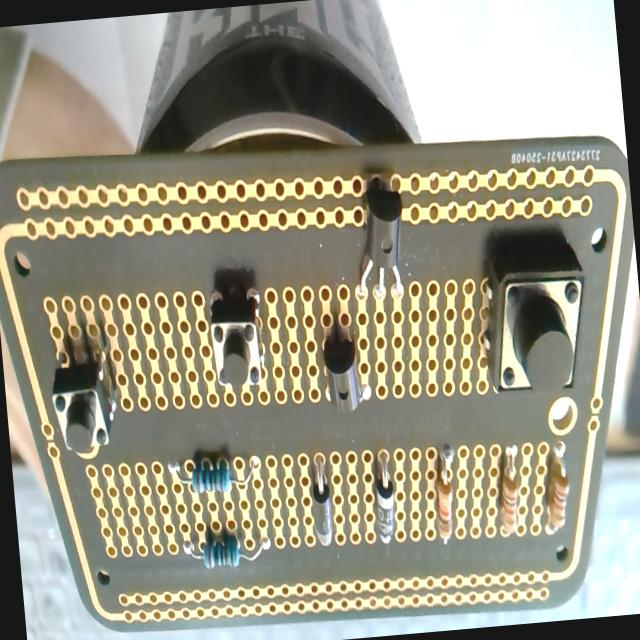diode: (370, 448, 400, 545), (306, 452, 335, 548)
resistor: (169, 452, 259, 498), (182, 526, 268, 572), (430, 442, 464, 544), (494, 445, 524, 537), (541, 449, 573, 534)
switch: (478, 239, 594, 399), (46, 328, 121, 460), (206, 282, 270, 394)
transistor: (348, 178, 410, 303), (318, 316, 372, 414)
